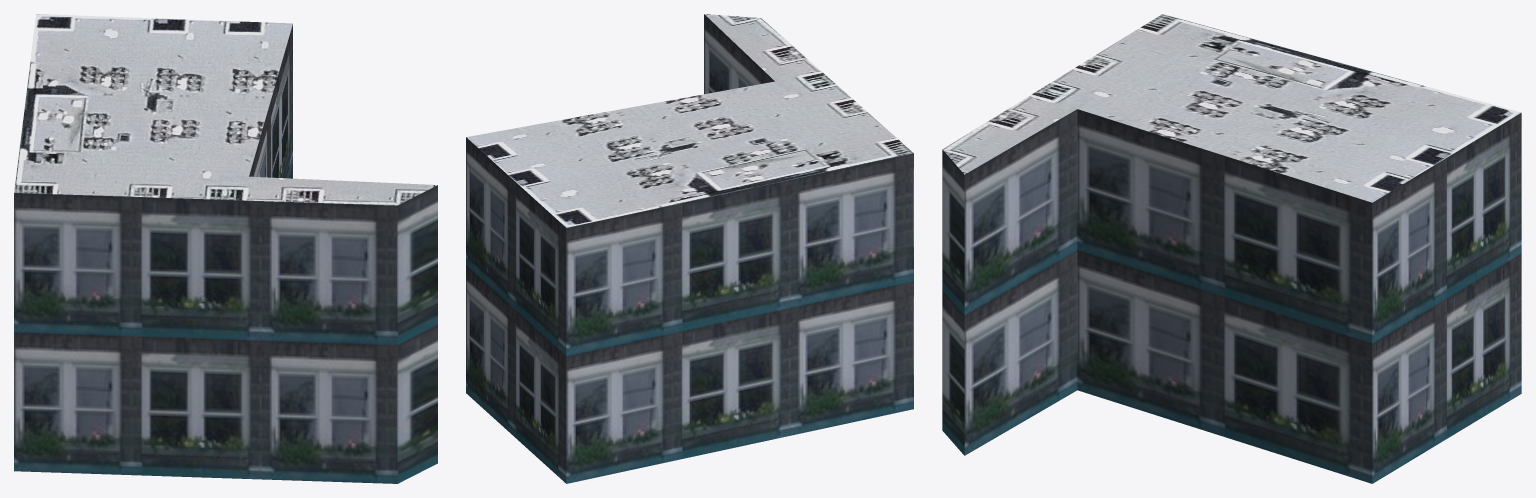
File: ResTex__3747.fbx
3 views of the same model, side by side, from view 1: azimuth 30°, elevation 25°; view 2: azimuth 150°, elevation 25°; view 3: azimuth 270°, elevation 25° (orthographic). The views are drawn at different scales.
Visible parts, largest first — view 1: CityEngineMaterial_11_m, CityEngineMaterial_m; view 2: CityEngineMaterial_11_m, CityEngineMaterial_m; view 3: CityEngineMaterial_11_m, CityEngineMaterial_m.
Boxes of the visible parts, x1,y1,x2,y2 form: CityEngineMaterial_11_m: (14,24,437,483); CityEngineMaterial_m: (14,14,437,205); CityEngineMaterial_11_m: (466,14,913,483); CityEngineMaterial_m: (466,14,913,227); CityEngineMaterial_11_m: (942,109,1521,483); CityEngineMaterial_m: (942,14,1521,202).
Size of the model in its own units: 8.64 by 6 by 11.2.
2 materials, 2 textured.
